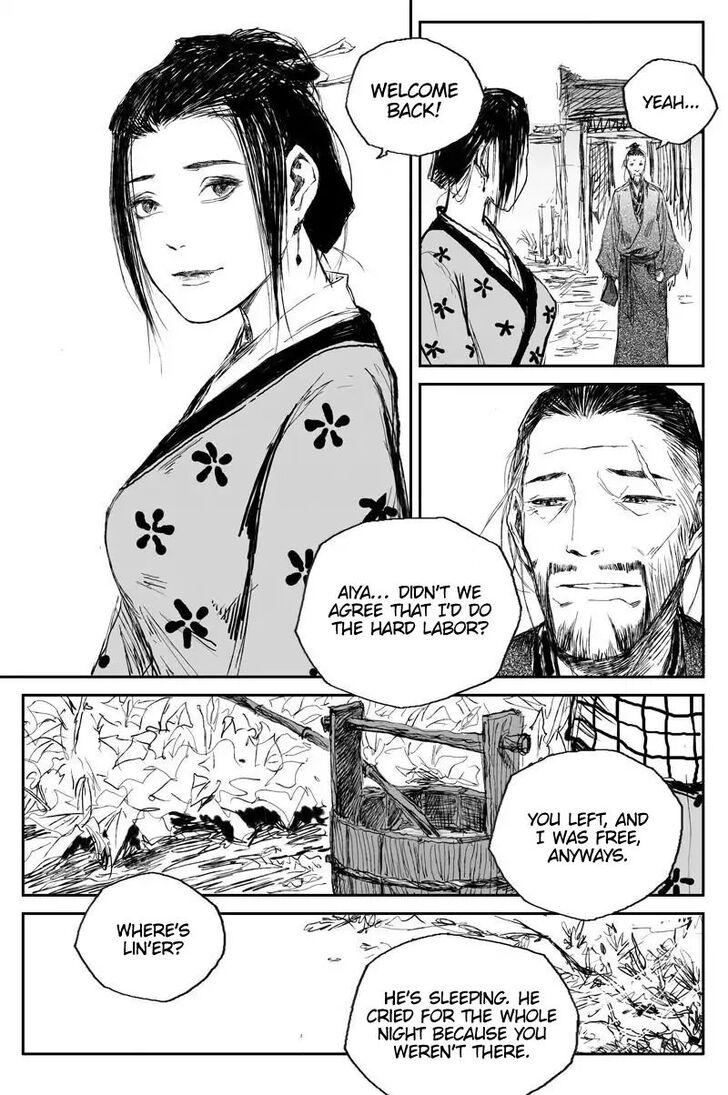Bubble: (294, 516, 524, 710), (343, 932, 580, 1095), (487, 748, 684, 922), (74, 871, 228, 1003), (345, 36, 485, 158), (621, 57, 721, 146)
